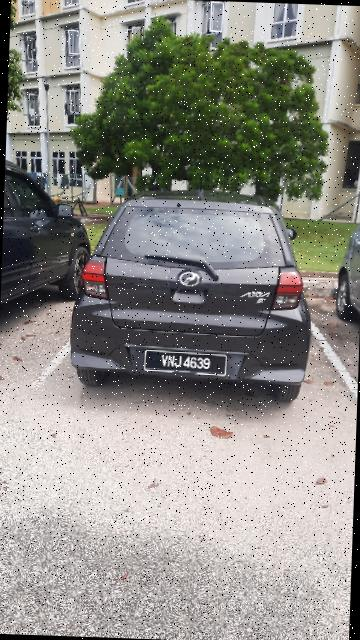License_Plate: (144, 348, 238, 381)
car: (68, 186, 319, 414)
